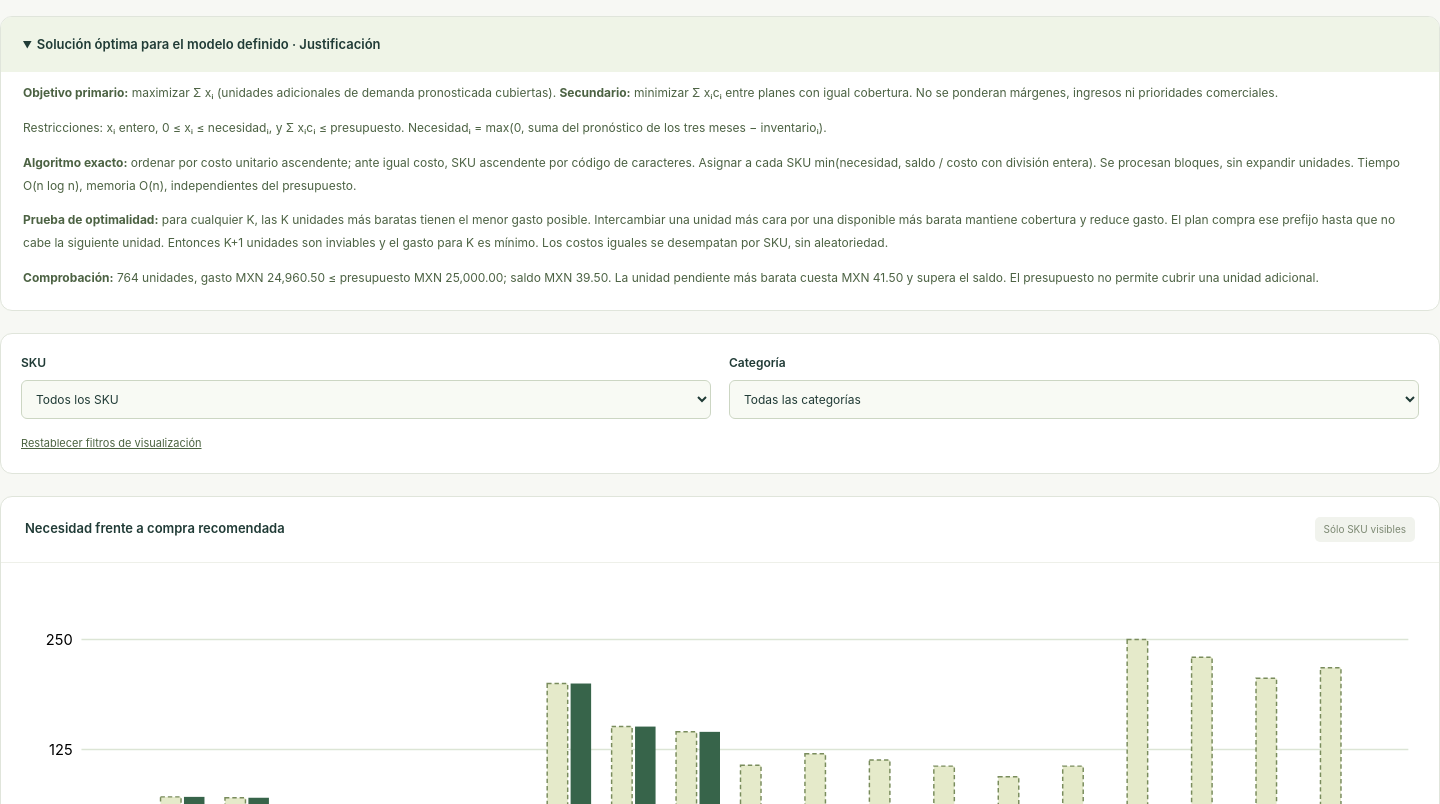
Scenario: Pantalla CU-03 › filtrar no recalcula ni modifica el plan ni sus indicadores globales
The width and height of the screenshot is (1440, 804).
(page scrolled)
Select "Despensa" in the dropdown labelled "Categoría" at (1074, 399), box [729,380,1419,419]
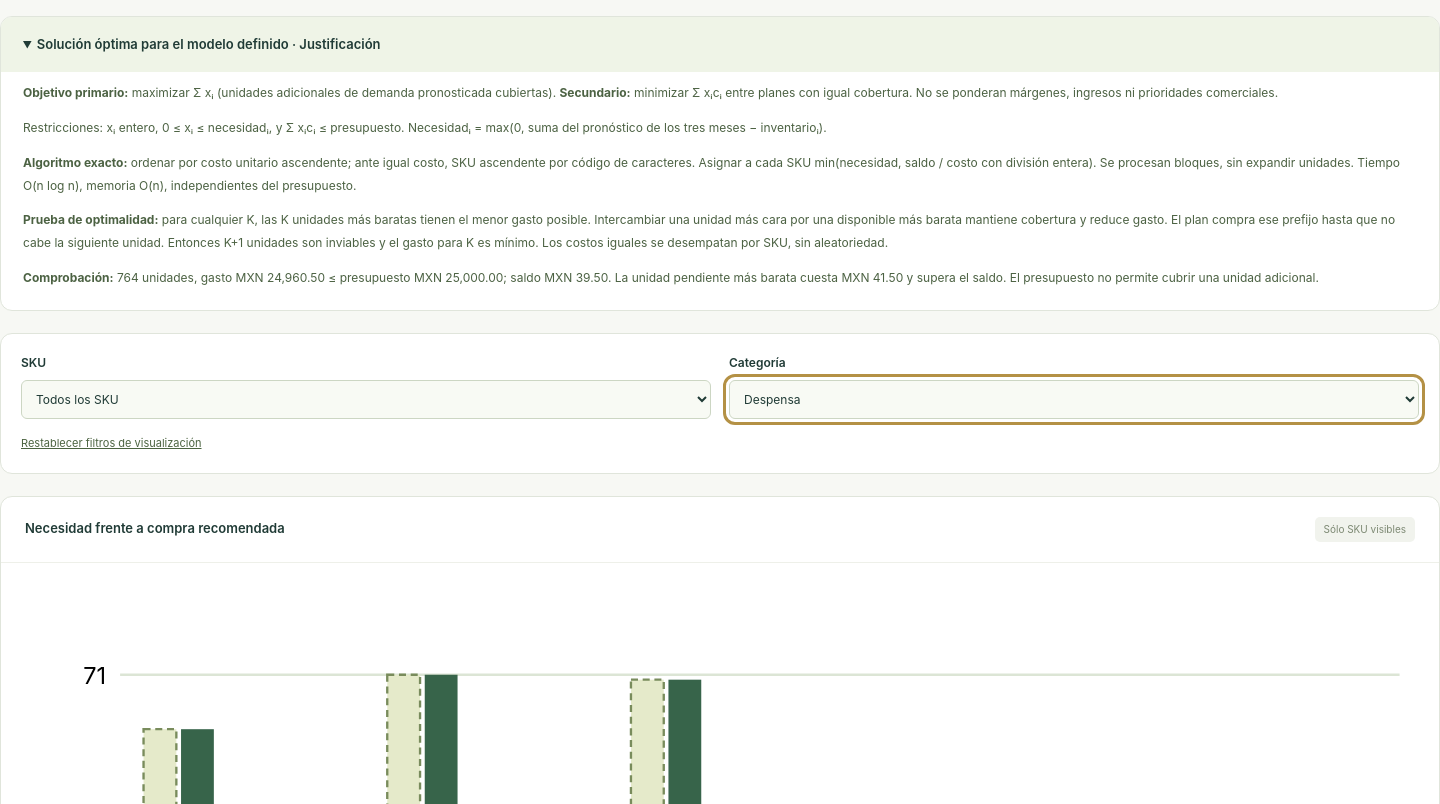
Select "SKU-001" in the dropdown labelled "SKU" at (366, 399), box [21,380,711,419]
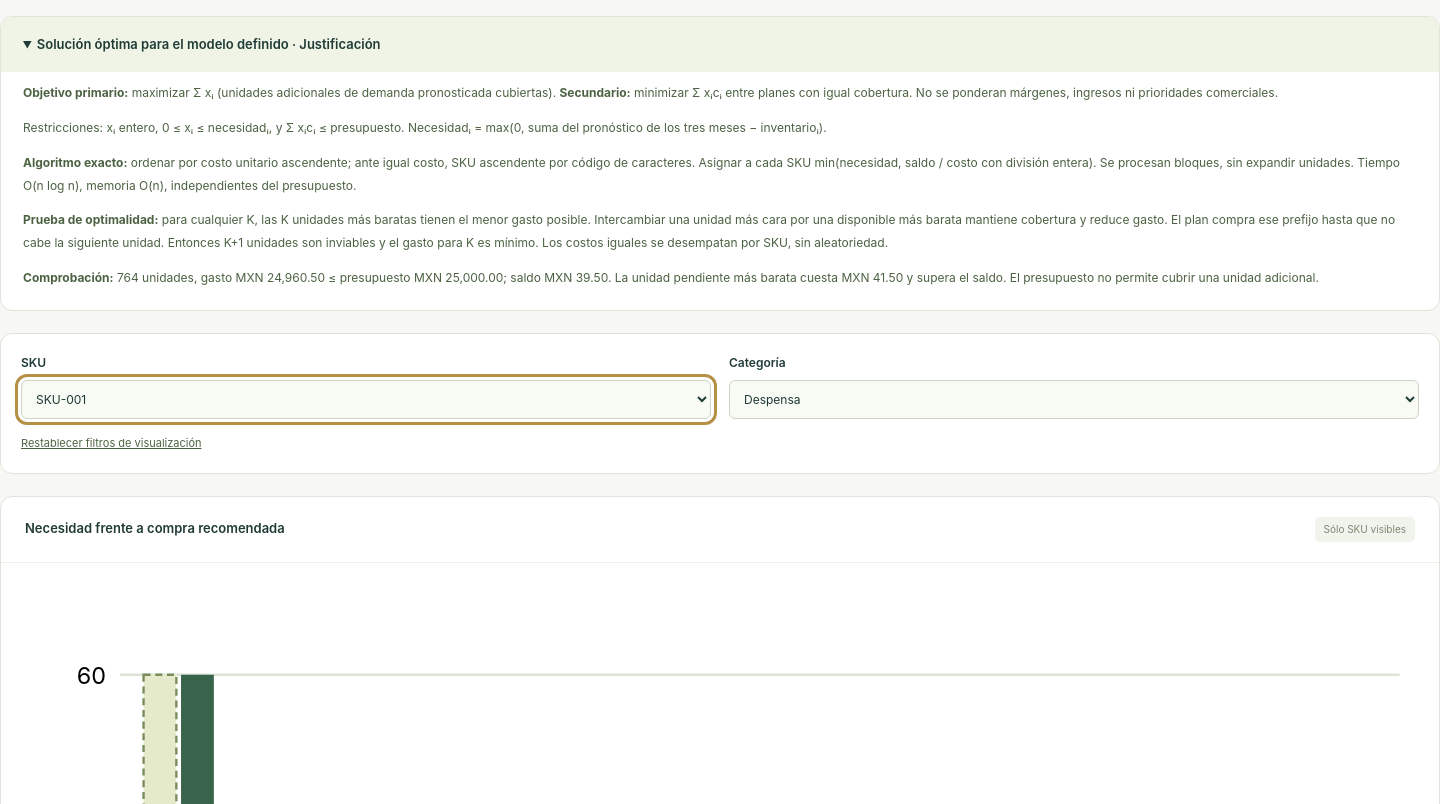
Select "Hogar" in the dropdown labelled "Categoría" at (1074, 399), box [729,380,1419,419]
(page scrolled)
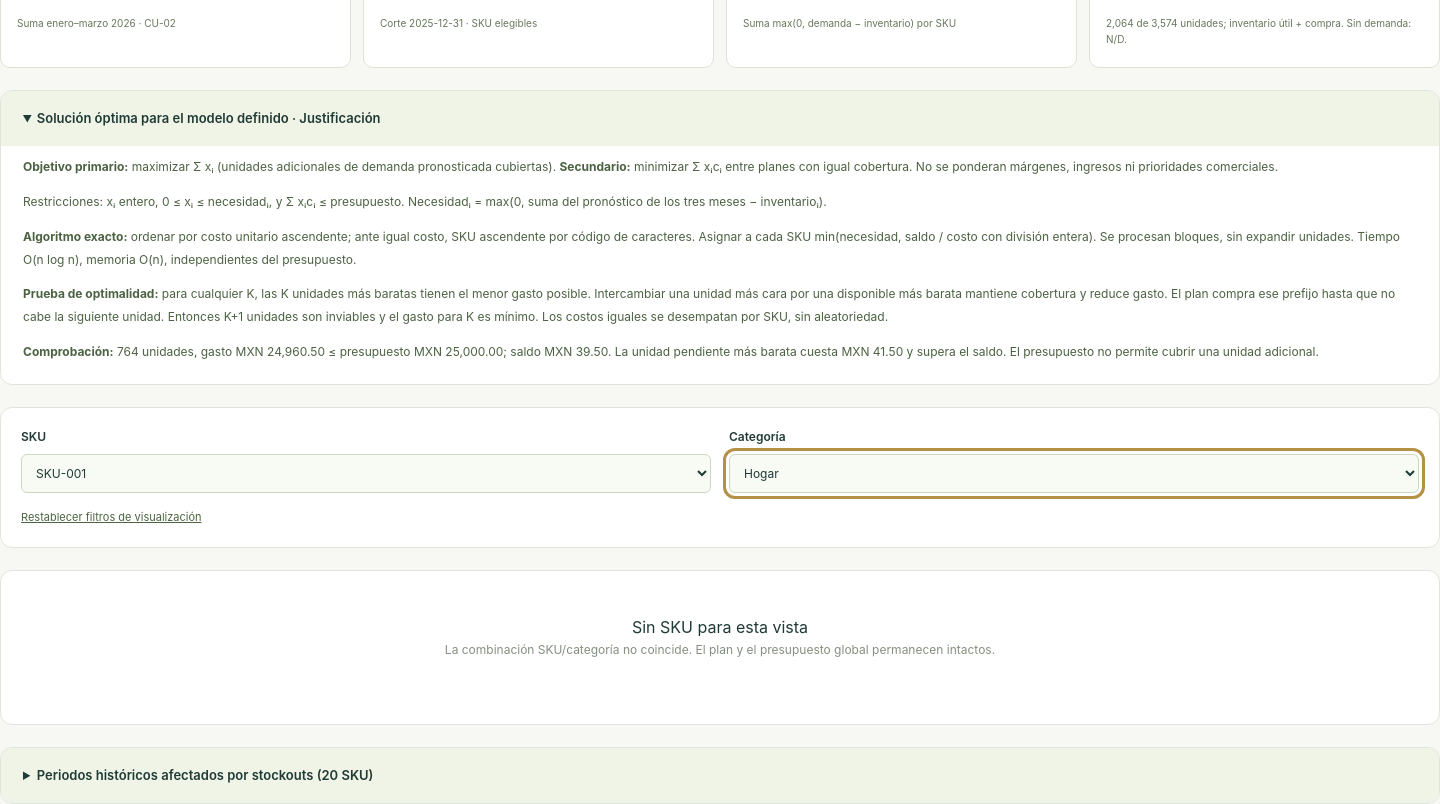
Expected: the heading "Sin SKU para esta vista" is shown, [632,617,808,637]
Click the button "Restablecer filtros de visualización" at (111, 517), box [21,509,202,525]
(page scrolled)
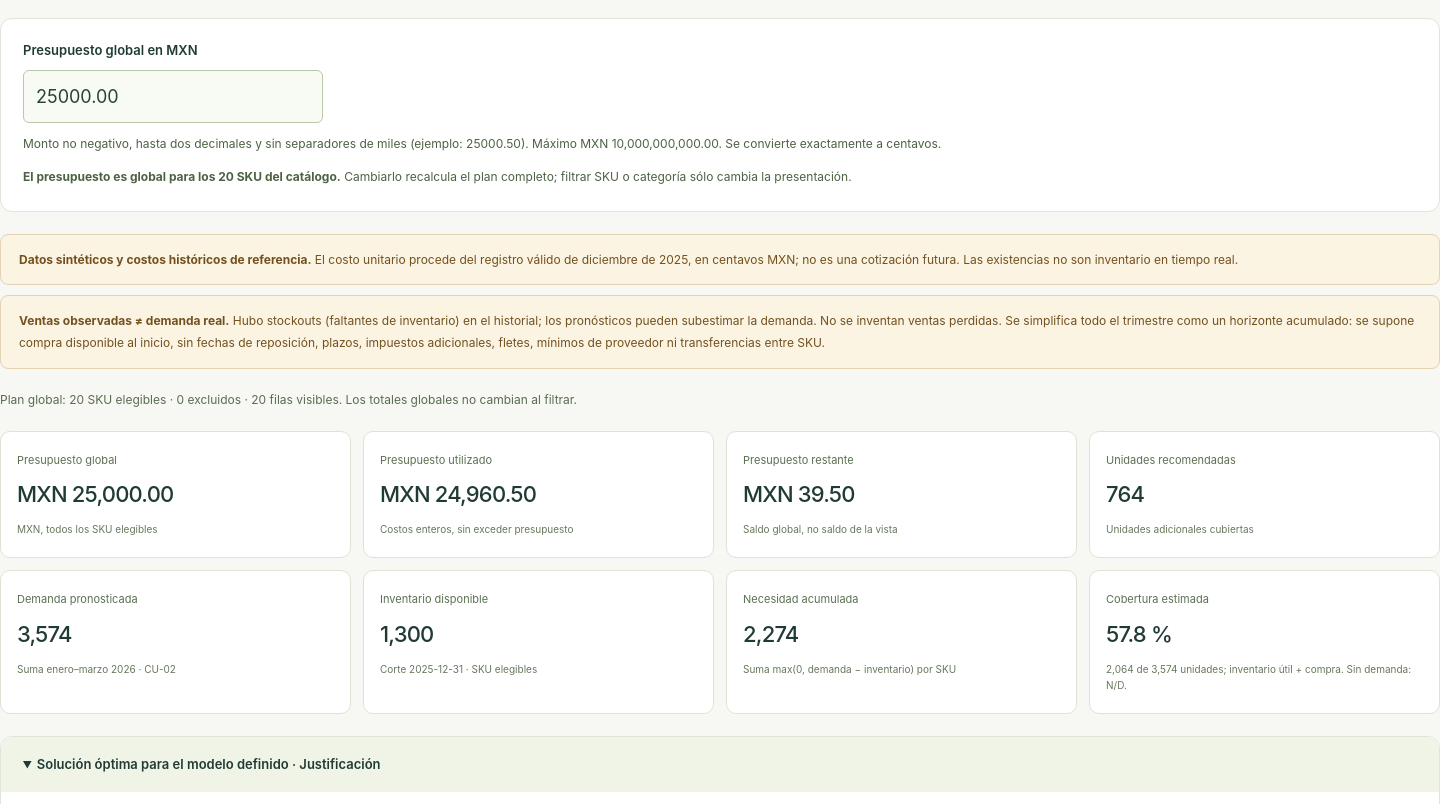
Expected: the message shows "20 filas visibles", [0,392,577,407]
